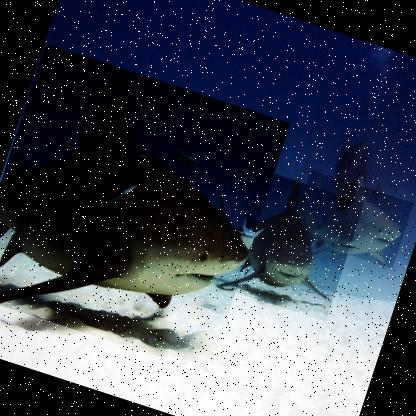bulldog-shark: (0, 42, 291, 374), (195, 160, 365, 322), (288, 169, 414, 269)
